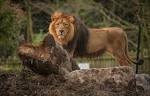lion: (43, 7, 136, 67)
